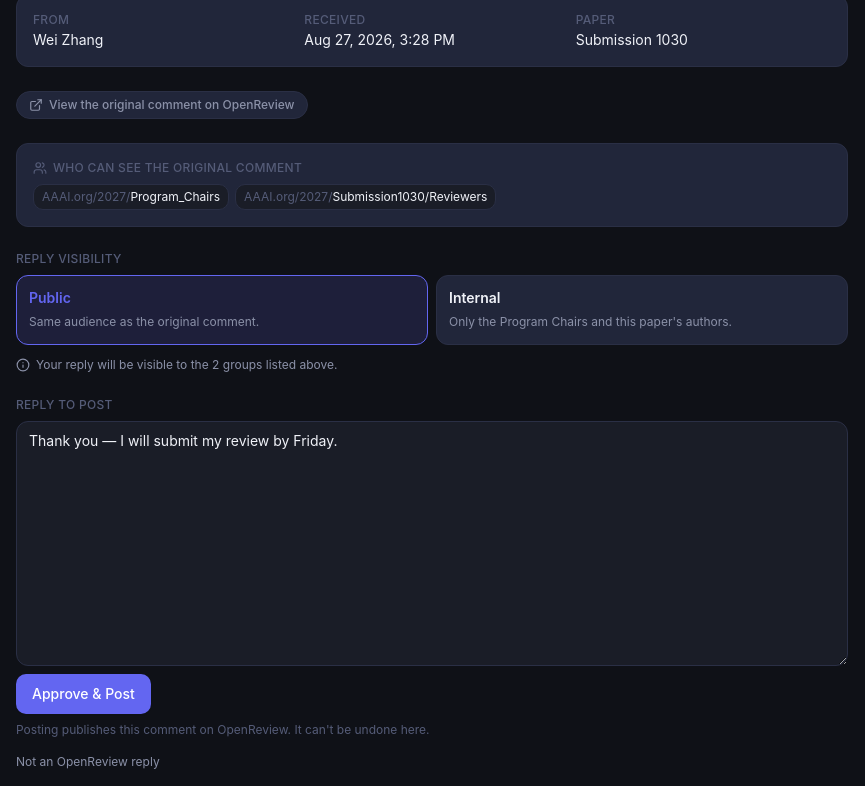
Test: post — the request › disables the button while the post is in flight
(page scrolled)
Expected: the text box labelled "Reply to post" holds "Thank you — I will submit my review by Friday.", [16,420,848,666]
Click the button "Approve & Post". click: (83, 694)
box: [16,674,151,714]
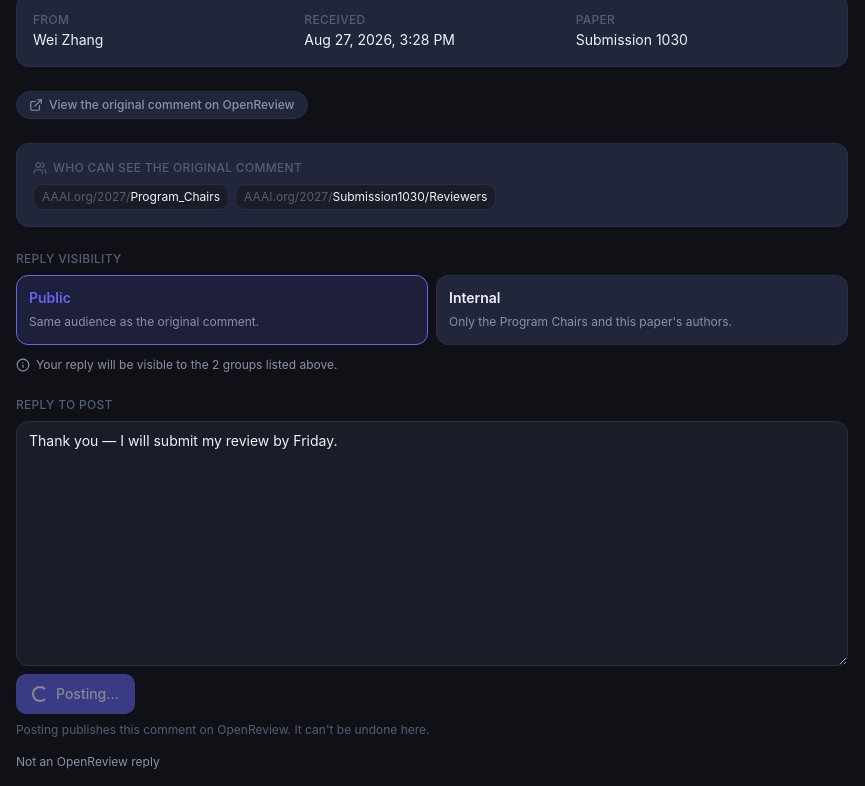
Expected: the button "Posting…" is disabled, [16,674,135,714]
Expected: the button "Approve & Post" is gone
